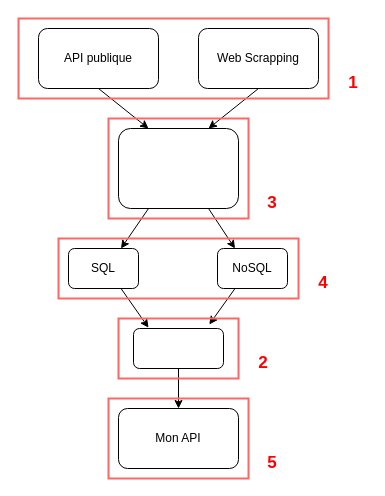
The diagram is 385 pixels wide and 496 high, and some of its shapes have lost their labels. The shapes that lost their labels are listed below. From the top down, each one's centre as x and y in pixels, then its label:
At point (178, 168): "Stockage Aggrégation Nettoyage".
At point (178, 348): "Requêtes".
